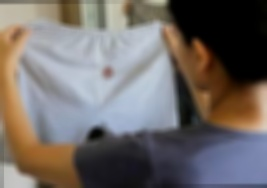blood: (101, 65, 114, 80)
